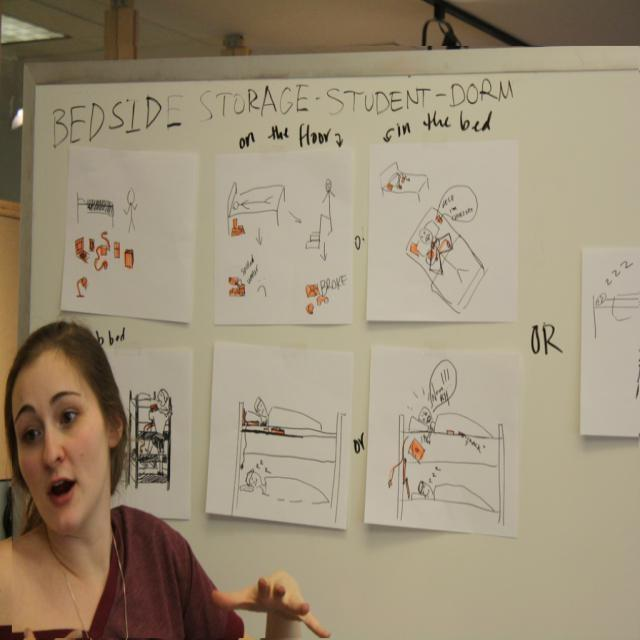Whiteboard: (22, 44, 639, 639)
